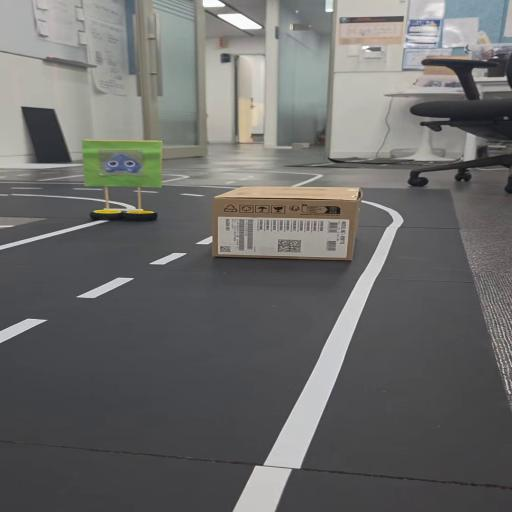Box: (208, 183, 364, 264)
Sign_B: (79, 137, 165, 224)
